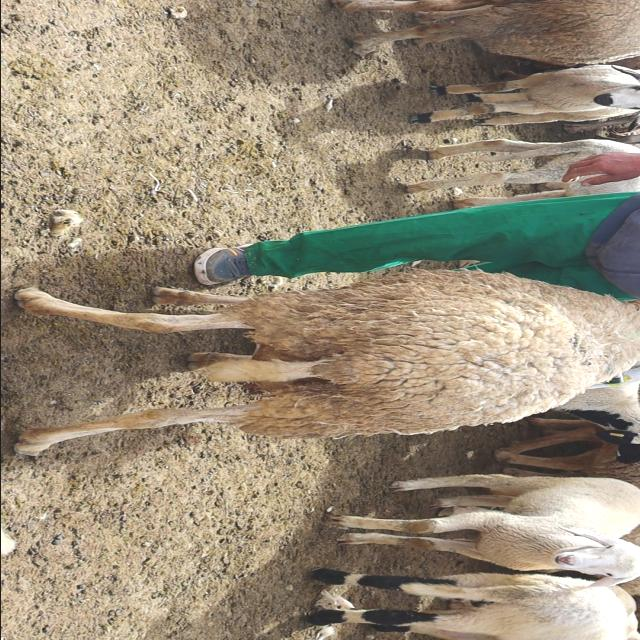Score_2: (14, 269, 640, 455)
